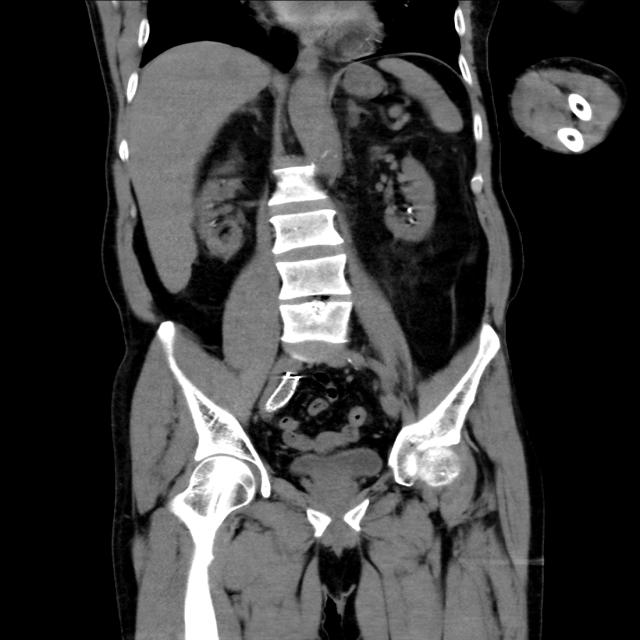kidneystone: (406, 206, 412, 213)
